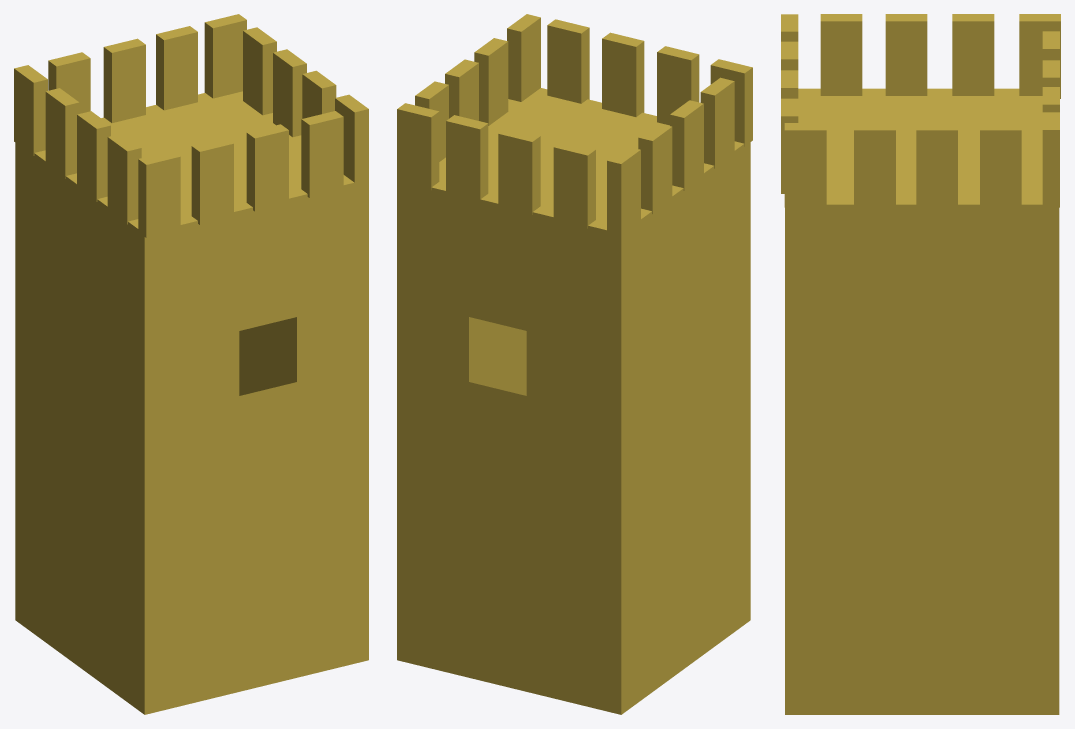
File: walltower1.obj
3 views of the same model, side by side, from view 1: azimuth 30°, elevation 25°; view 2: azimuth 150°, elevation 25°; view 3: azimuth 270°, elevation 25° (orthographic). The views are drawn at different scales.
Parts seen in each view (by area): view 1: Cube_Cube.001; view 2: Cube_Cube.001; view 3: Cube_Cube.001.
Boxes of the visible parts, x1,y1,x2,y2 form: Cube_Cube.001: [14, 14, 368, 714]; Cube_Cube.001: [397, 14, 752, 714]; Cube_Cube.001: [781, 14, 1060, 714].
Bounding box in the file's own units: 9.57 × 22.43 × 9.74.
